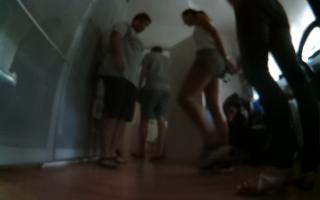person: (227, 1, 320, 200), (174, 6, 237, 179), (95, 12, 155, 171), (129, 36, 171, 166)
